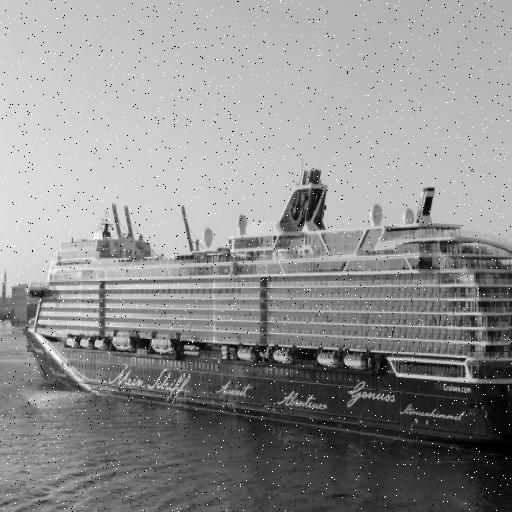cruises: (19, 166, 512, 463)
